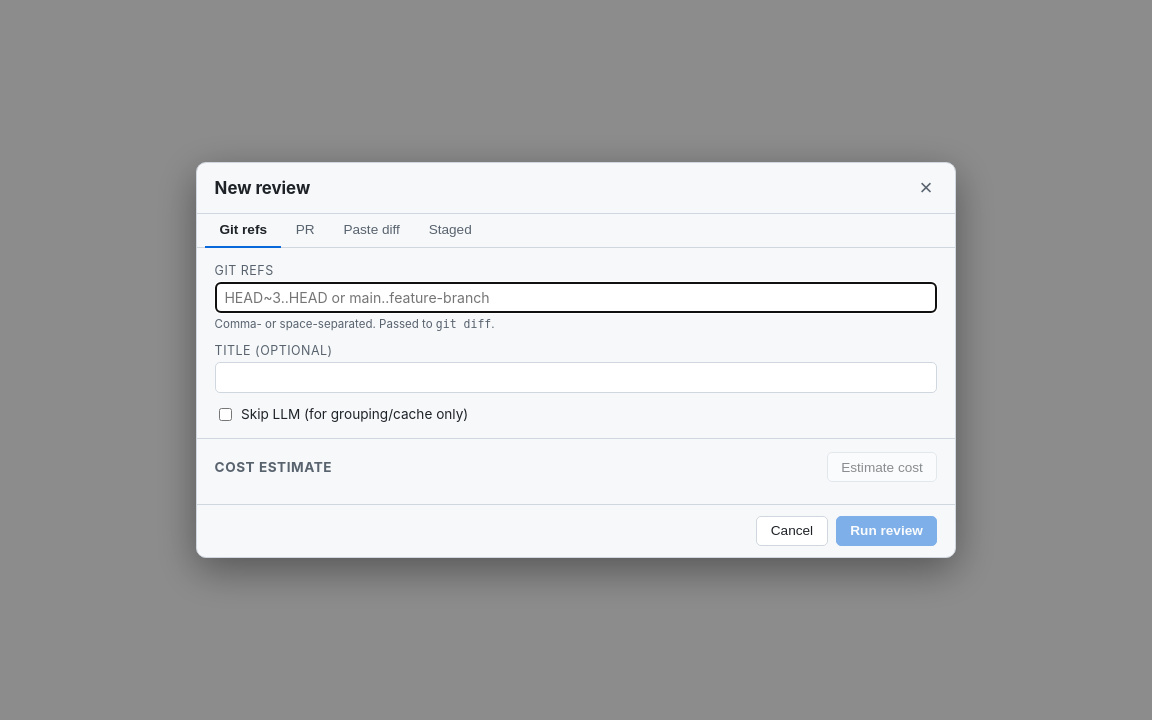
Test: NewReviewDialog › fetches preview with CSRF header
Type "HEAD~1..HEAD" into the field labelled "Git refs".
click(576, 298); type("HEAD~1..HEAD")  # box left=215, top=282, right=937, bottom=313
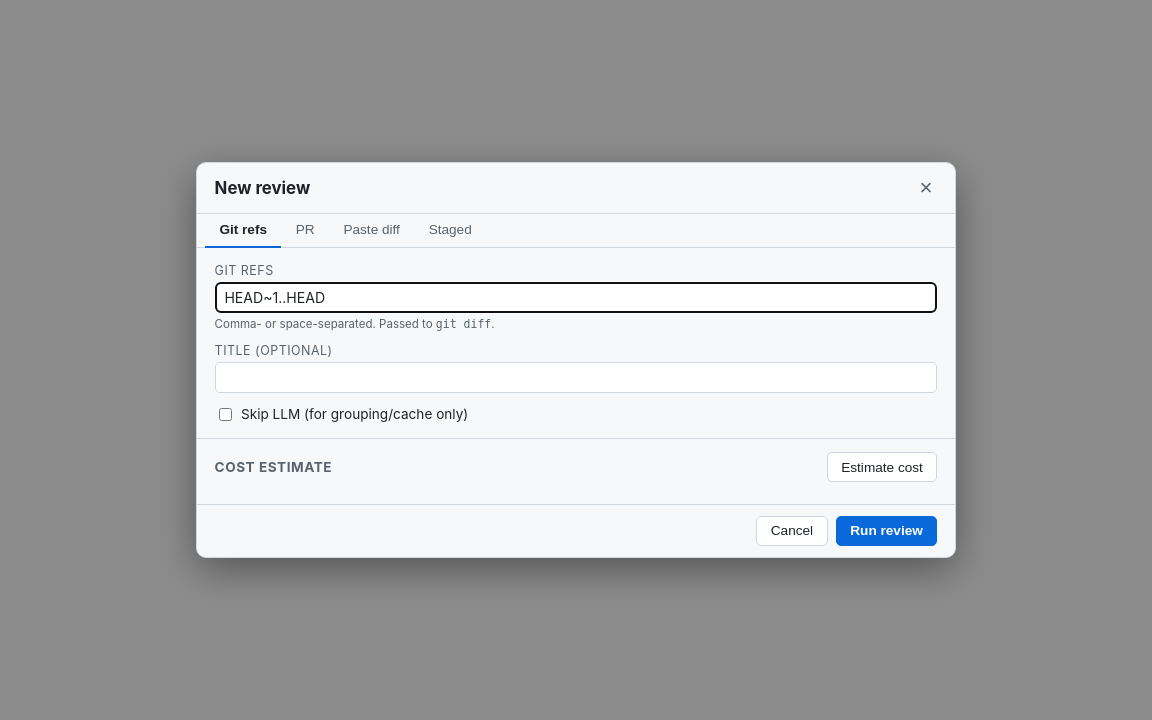
Click the button "Estimate cost".
click(882, 467)  # box left=827, top=452, right=937, bottom=482
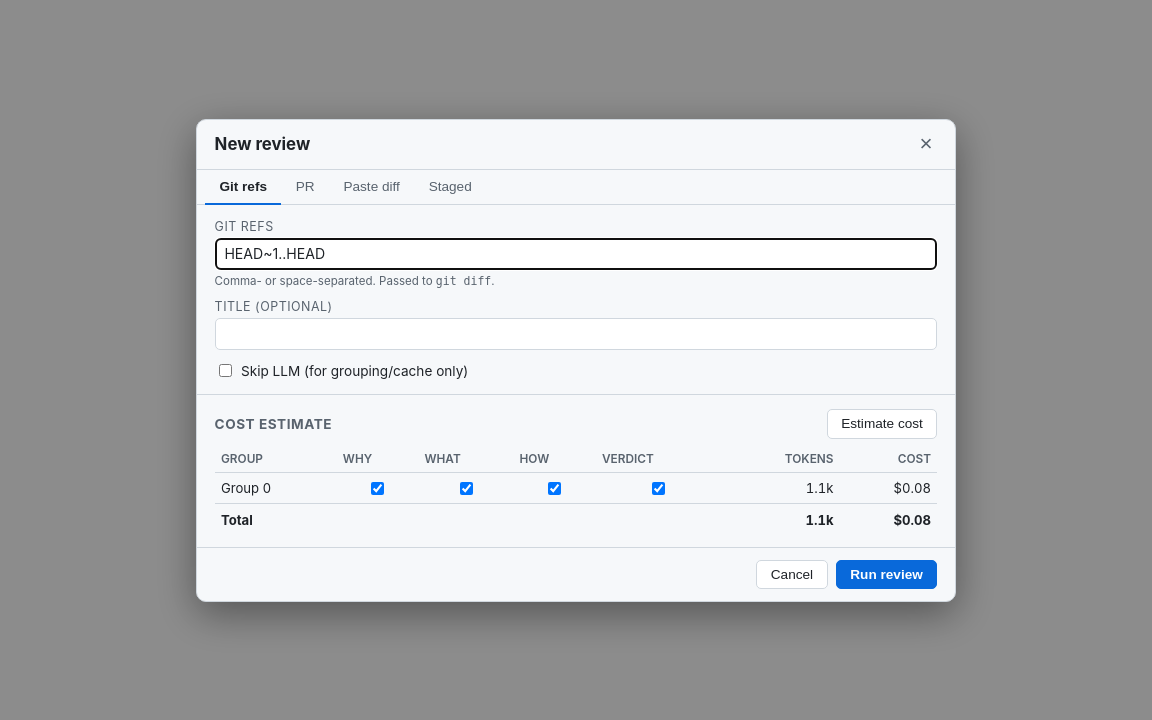
Expected: the text "Group 0" is shown, left=215, top=472, right=336, bottom=504
